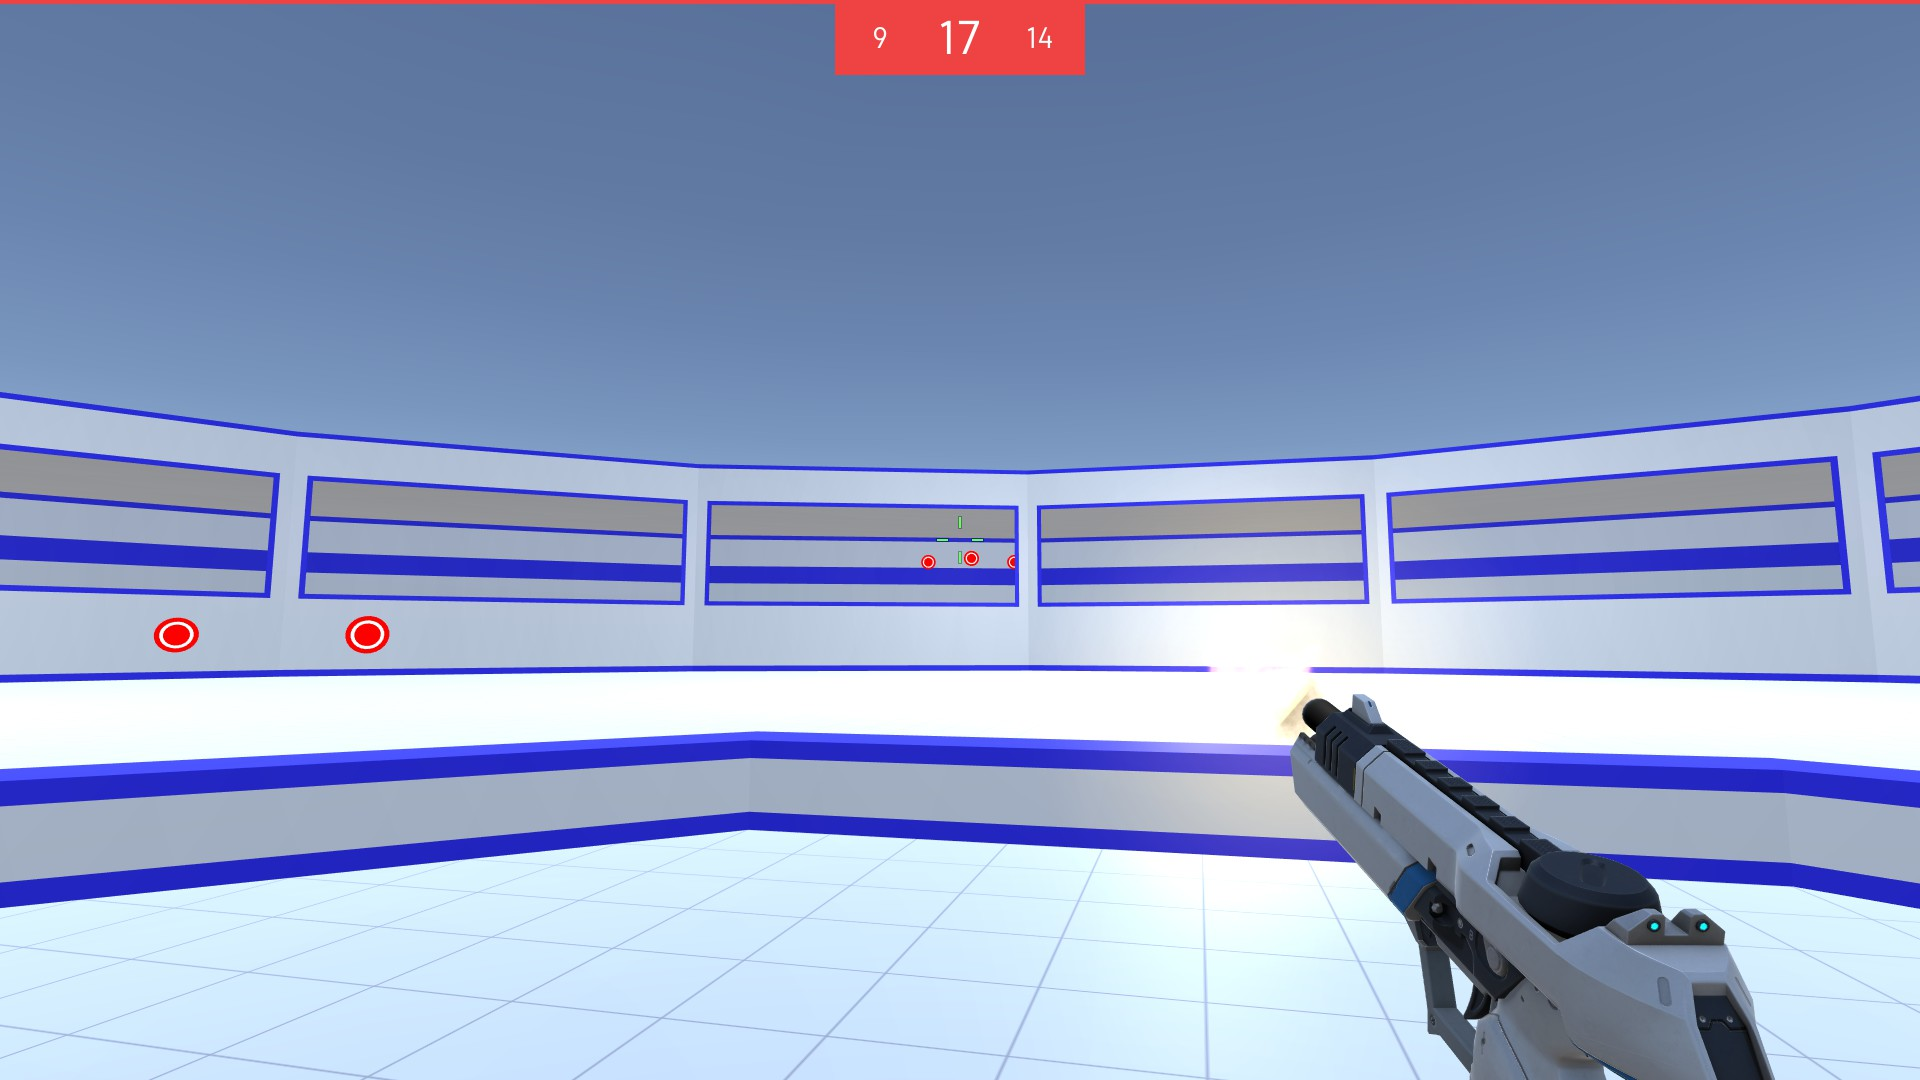target: (344, 615, 392, 655), (153, 617, 200, 654), (963, 549, 981, 567), (919, 553, 936, 570), (1006, 554, 1018, 568)
